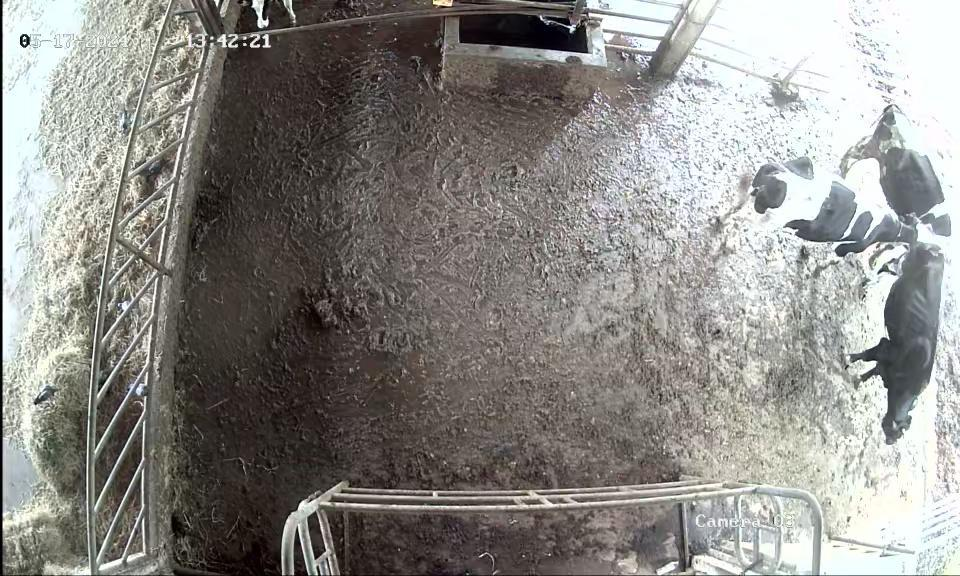stand: (714, 152, 937, 271), (846, 230, 949, 450), (844, 95, 960, 231)
